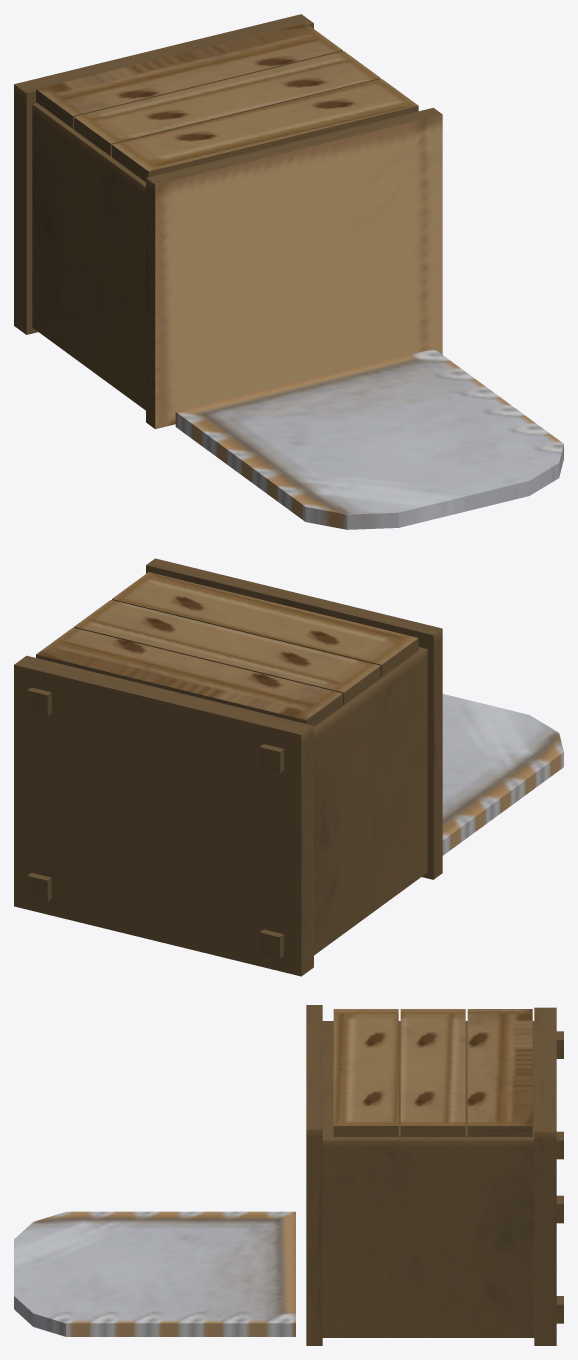
The model's file is pz_drawer_storage_01_lit_mirror_and.obj.
The picture shows the model from 3 angles, top to bottom: view 1: azimuth 30°, elevation 25°; view 2: azimuth 150°, elevation 25°; view 3: azimuth 270°, elevation 25°; orthographic projection. The views are drawn at different scales.
Visible parts, largest first — view 1: root; view 2: root; view 3: root.
Boxes of the visible parts, x1,y1,x2,y2 form: root: (14, 14, 563, 529); root: (14, 558, 563, 976); root: (14, 1005, 563, 1345).
Size of the model in its own units: 0.99 by 0.805 by 1.85.
1 material, 1 textured.
